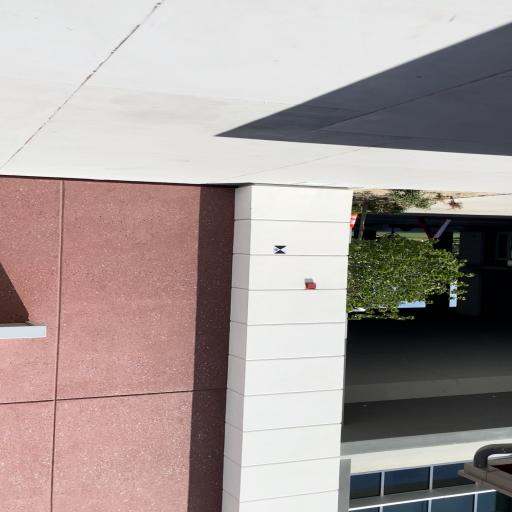target6: (273, 246, 287, 254)
